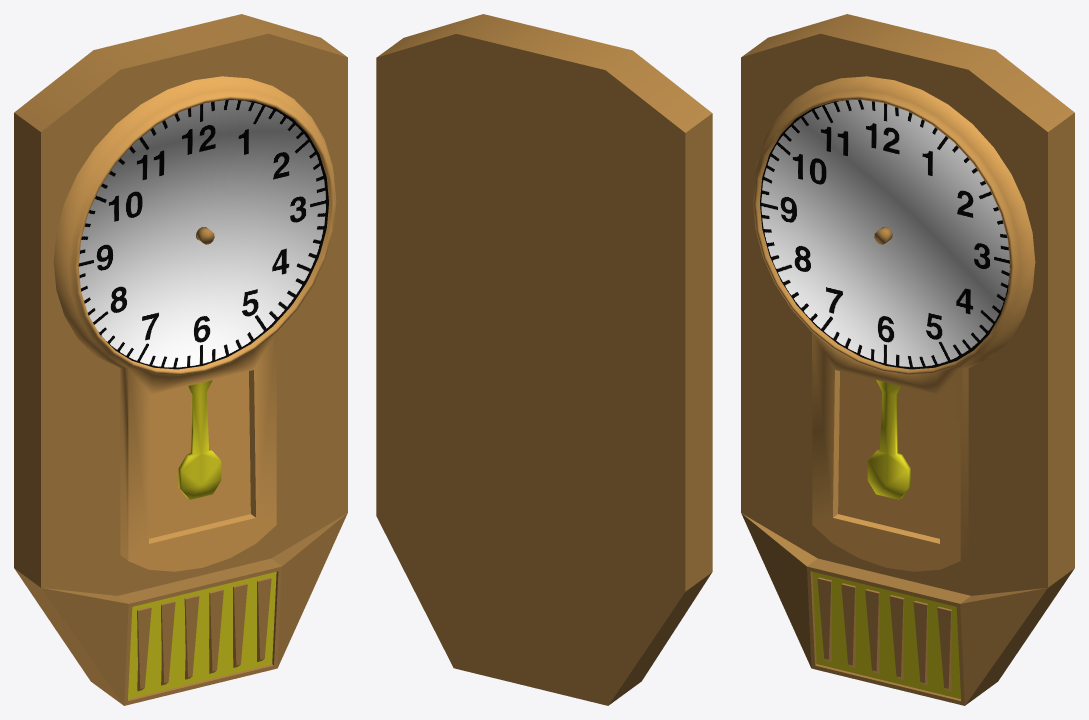
The model's file is clock_closed.glb.
3 renders of one model, left to right at view 1: azimuth 30°, elevation 25°; view 2: azimuth 150°, elevation 25°; view 3: azimuth 330°, elevation 25°, orthographic.
Visible parts, largest first — view 1: full_clock_noarrows_closed; view 2: full_clock_noarrows_closed; view 3: full_clock_noarrows_closed.
Part boxes in pixels (x1=…): full_clock_noarrows_closed: x1=14, y1=14, x2=347, y2=705; full_clock_noarrows_closed: x1=376, y1=14, x2=712, y2=705; full_clock_noarrows_closed: x1=741, y1=14, x2=1074, y2=705.
Bounding box in the file's own units: 0.451 × 0.8858 × 0.1039.
Materials: 5 (1 with a texture image).
